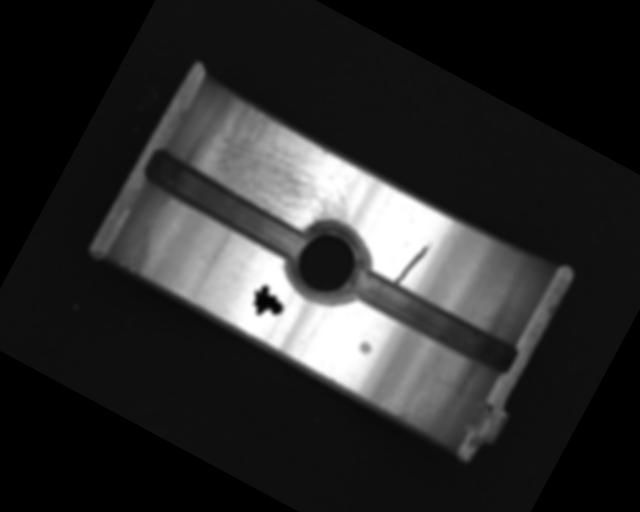blot: (244, 281, 290, 325)
bruise: (356, 338, 375, 357)
gap: (344, 260, 523, 381), (138, 146, 313, 264)
hole: (275, 209, 380, 317)
nick: (393, 234, 434, 291)
scratch: (189, 94, 375, 249)
